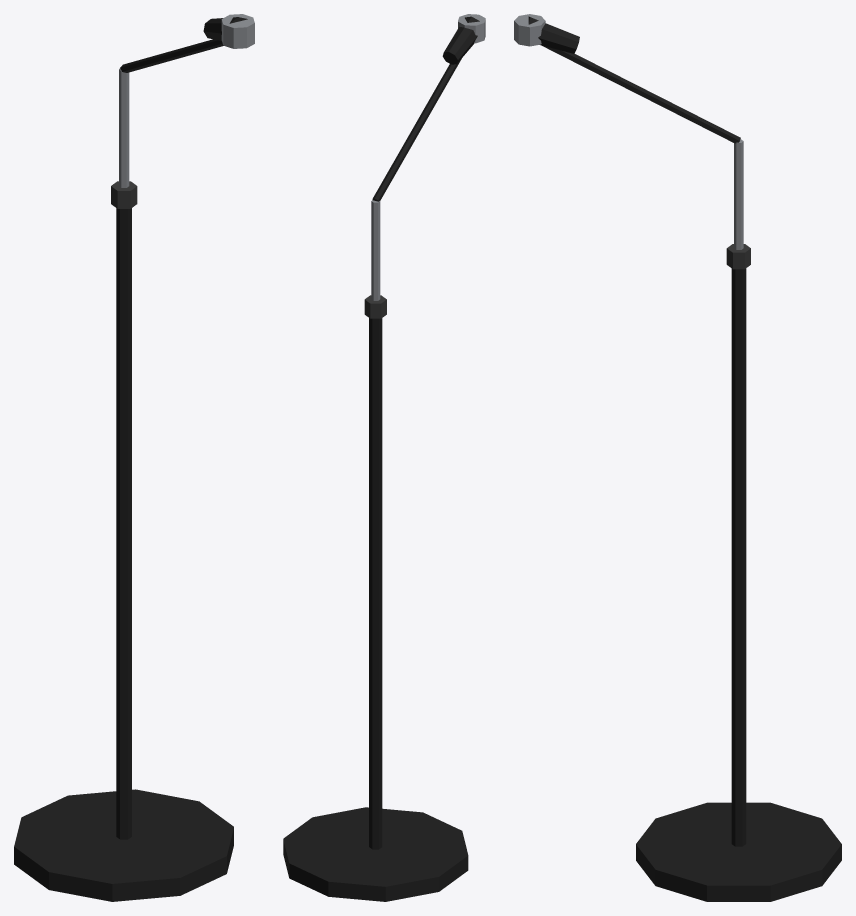
The model's file is lwf_mic_stand_v1.glb.
3 views of the same model, side by side, from view 1: azimuth 30°, elevation 25°; view 2: azimuth 150°, elevation 25°; view 3: azimuth 270°, elevation 25° (orthographic). The views are drawn at different scales.
Parts seen in each view (by area): view 1: MicStand, MicHead; view 2: MicStand, MicHead; view 3: MicStand, MicHead.
Boxes of the visible parts, bbox=[...] form: MicStand: bbox=[14, 181, 233, 901]; MicHead: bbox=[119, 14, 254, 187]; MicStand: bbox=[283, 295, 468, 901]; MicHead: bbox=[371, 14, 485, 300]; MicStand: bbox=[636, 244, 841, 901]; MicHead: bbox=[514, 14, 743, 249].
Bounding box in the file's own units: 0.3234 × 1.54 × 0.541.
1 material, 1 textured.
